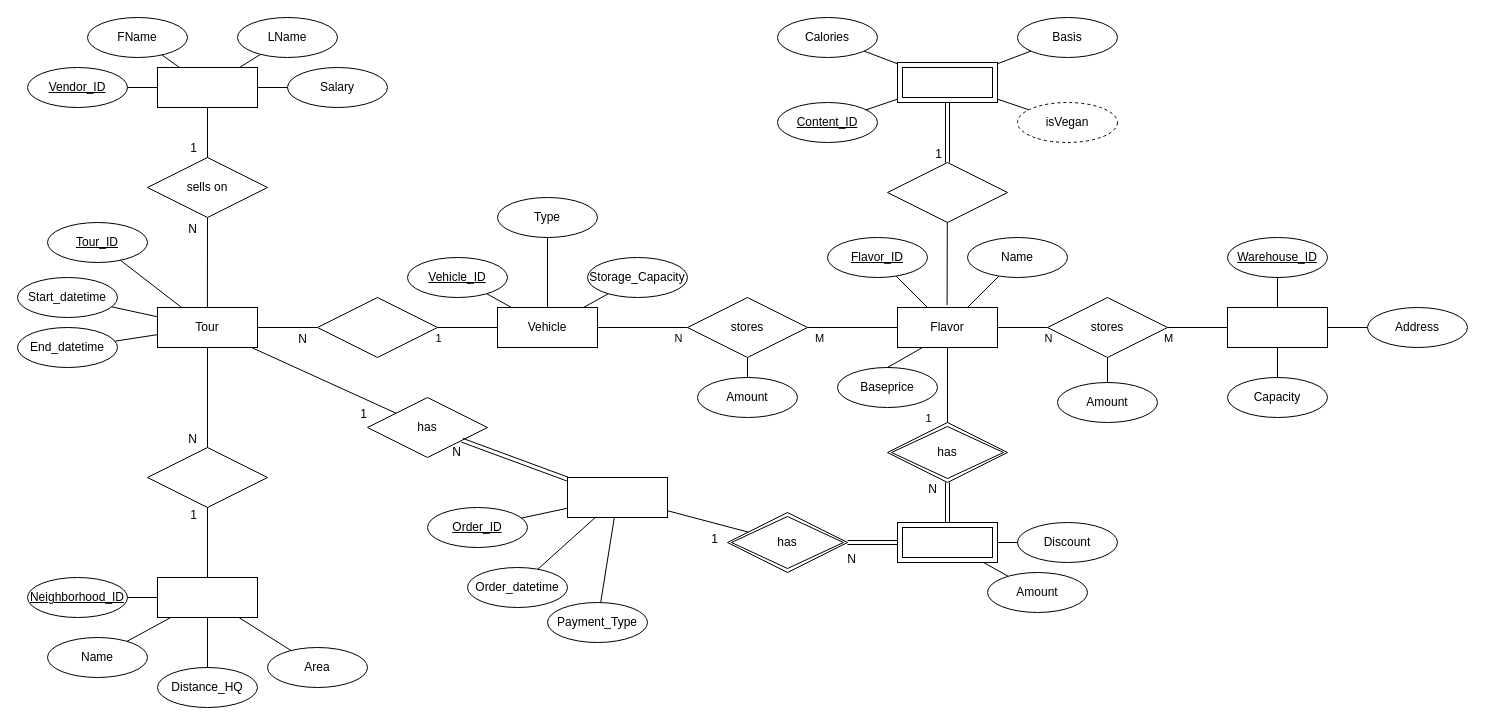
Image size: 1485x725. Some labels were removed from this diagram. Here are the shapes that lost their labels. From the top down, the centre of each, then its label:
At pixel 207 87: "Icecream_Vendor".
At pixel 947 82: "Content".
At pixel 947 192: "is made with".
At pixel 377 327: "is used for".
At pixel 1277 327: "Warehouse".
At pixel 207 477: "drives in".
At pixel 617 497: "Order".
At pixel 947 542: "Order_Detail".
At pixel 207 597: "Neighborhood".
